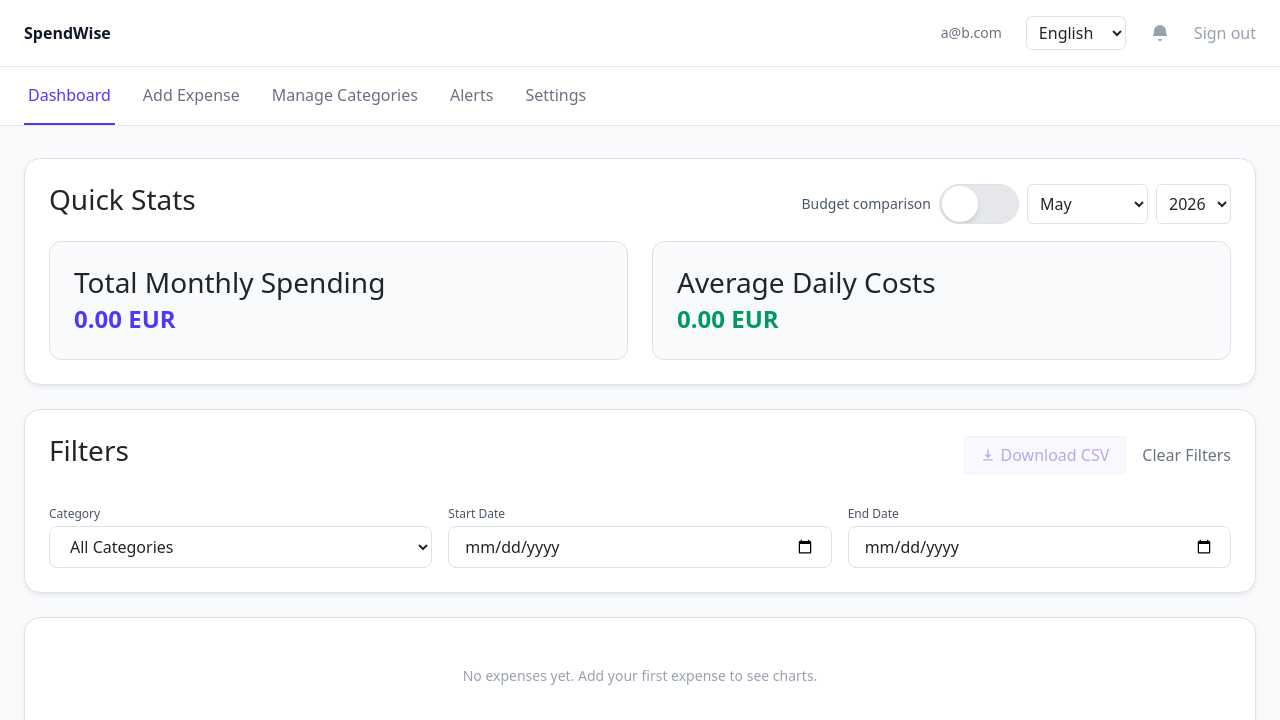
it: DashboardPage › loads and renders the budget comparison widget when enabled
Check: the text "real spending against monthly limits" is not shown
Click the switch named "budget comparison": (979, 204) [939,184,1019,224]
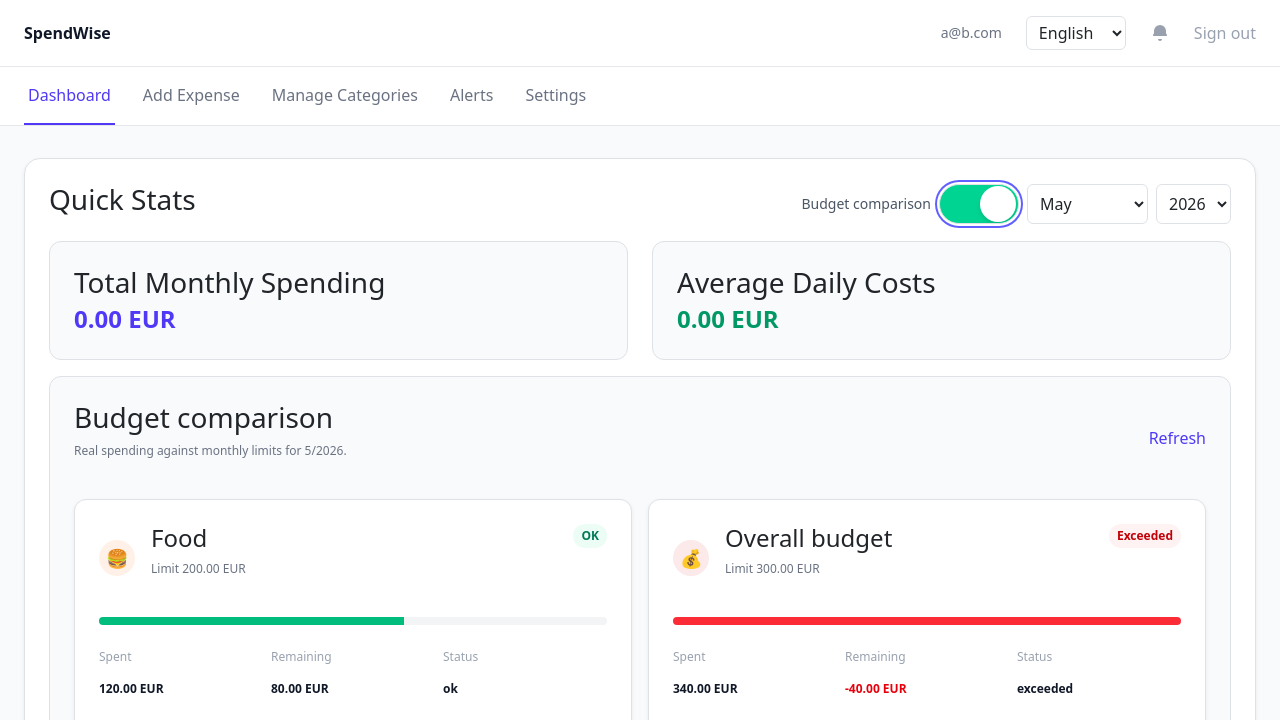
Check: the heading "Food" is shown, box [151,521,207,554]
Check: the heading "Overall budget" is shown, box [725,524,892,553]
Check: the text "OK" is shown, box [574,524,607,548]
